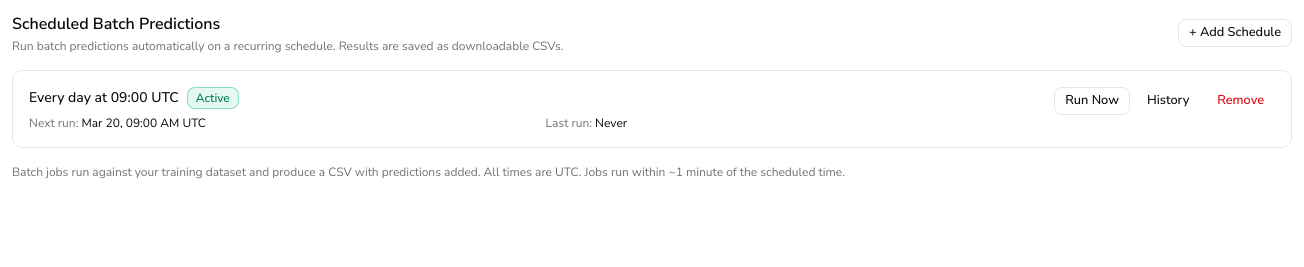
Scenario: ScheduleCard › shows run history when History is clicked
This screenshot has width=1304, height=267.
Click the button with test id "history-btn-sched-1" at x=1168, y=101, box [1136,87,1200,115]
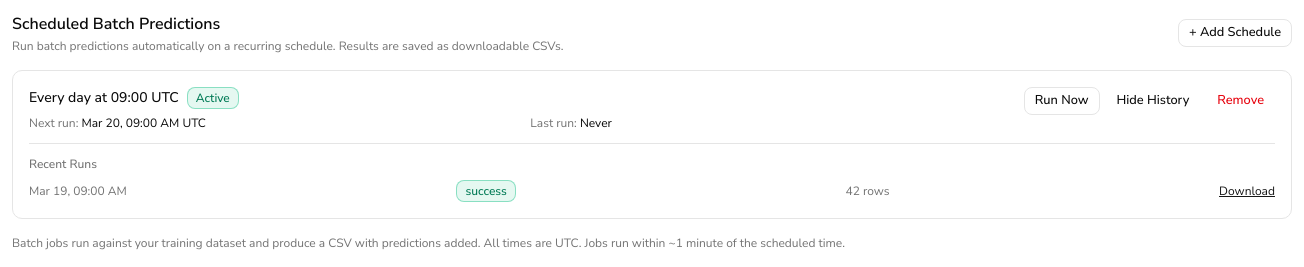
Check: the text "success" is shown, box [456,180,516,202]
Check: the text "42 rows" is shown, box [846,183,890,199]
